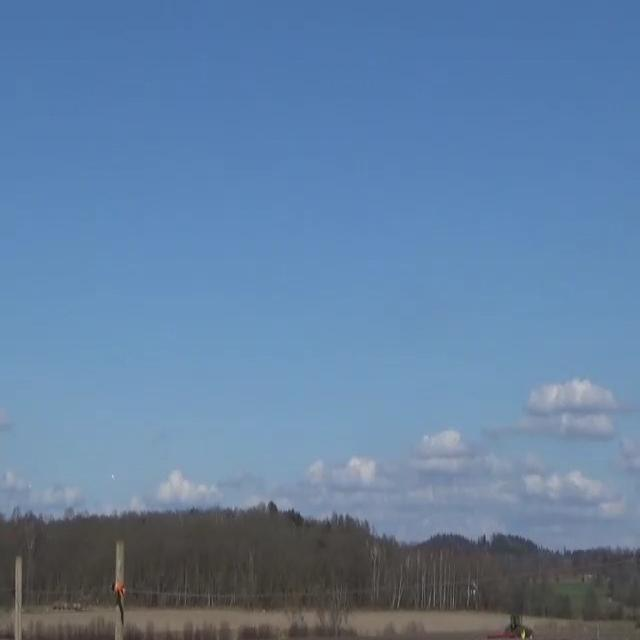drone: (112, 474, 116, 481)
